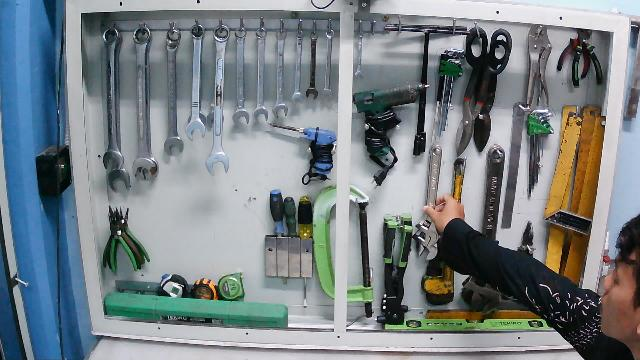kunci_inggris: (411, 141, 444, 261)
